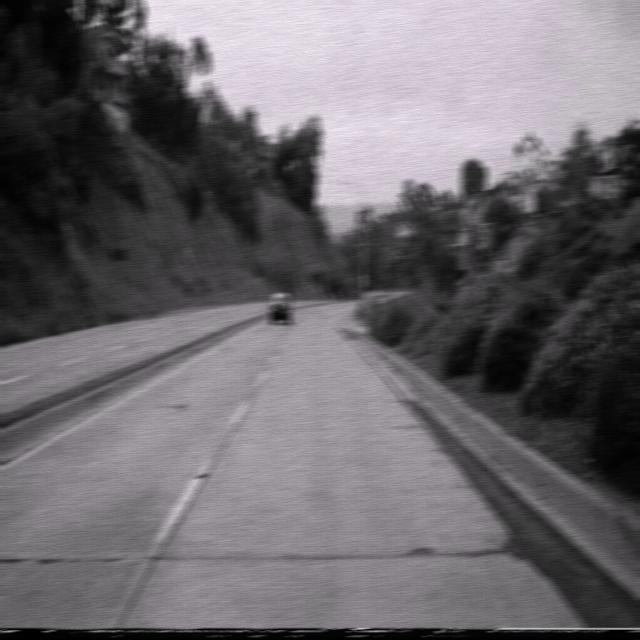yield: (478, 227, 494, 256)
